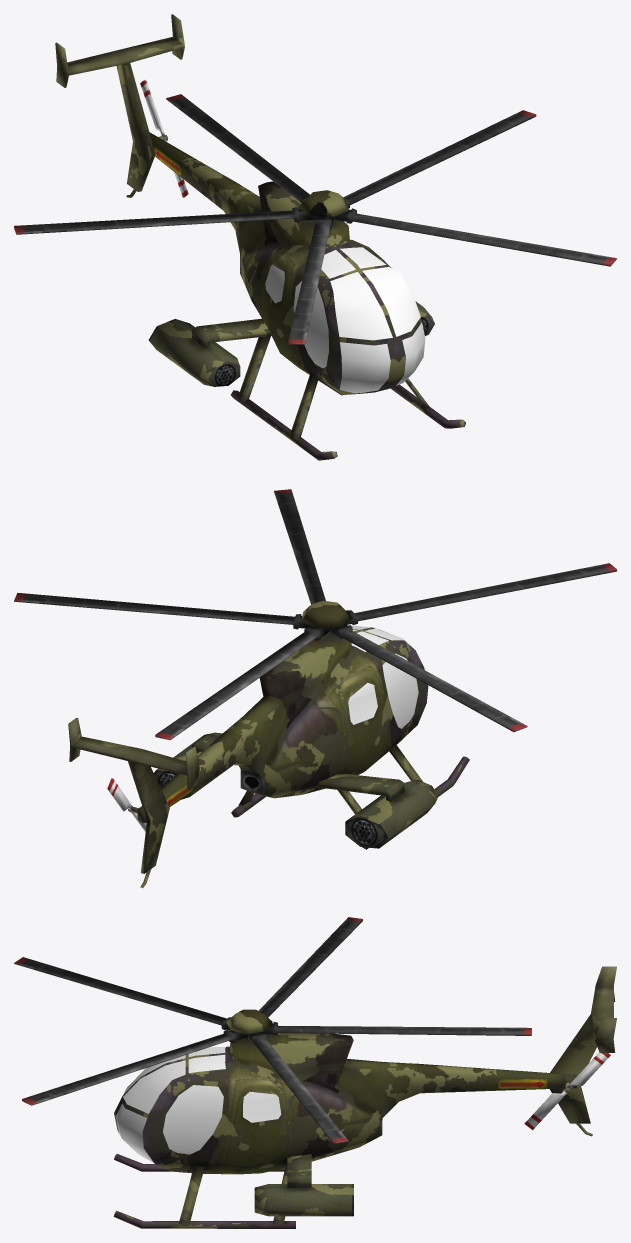
The model's file is DefenderHelicopter.glb.
The picture shows the model from 3 angles, top to bottom: view 1: azimuth 30°, elevation 25°; view 2: azimuth 150°, elevation 25°; view 3: azimuth 270°, elevation 25°; orthographic projection. The views are drawn at different scales.
Parts seen in each view (by area): view 1: Body, Top_rotor, Glass, Tail_Rotor; view 2: Body, Top_rotor, Glass; view 3: Body, Top_rotor, Glass, Tail_Rotor.
Boxes of the visible parts, x1,y1,x2,y2 form: Body: (55, 14, 465, 460); Top_rotor: (14, 94, 616, 344); Glass: (265, 247, 425, 393); Tail_Rotor: (140, 79, 188, 197); Body: (68, 627, 469, 887); Top_rotor: (14, 489, 616, 740); Glass: (347, 625, 418, 728); Body: (113, 966, 616, 1228); Top_rotor: (14, 917, 531, 1144); Glass: (115, 1047, 281, 1162); Tail_Rotor: (524, 1052, 610, 1130).
Size of the model in its own units: 6.99 by 2.95 by 7.89.
Materials: 3 (2 with a texture image).
